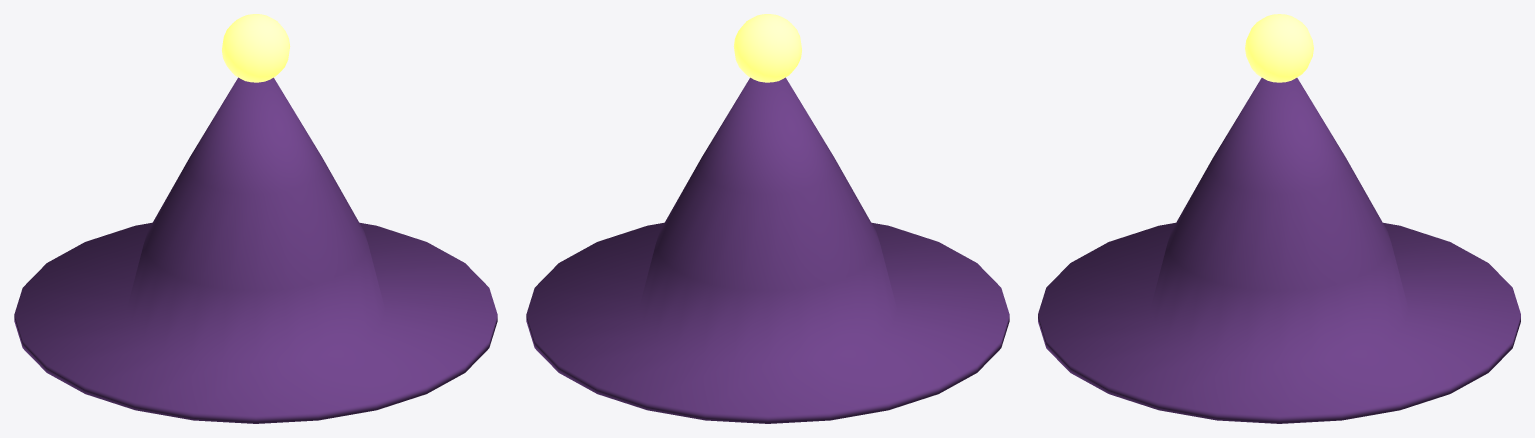
The model's file is hat_wizard.glb.
3 views of the same model, side by side, from view 1: azimuth 30°, elevation 25°; view 2: azimuth 150°, elevation 25°; view 3: azimuth 270°, elevation 25° (orthographic).
Visible parts, largest first — view 1: HatWizard; view 2: HatWizard; view 3: HatWizard.
Part boxes in pixels (box(x1,y1,x2,y2)): HatWizard: box(14, 14, 497, 423); HatWizard: box(526, 14, 1009, 423); HatWizard: box(1038, 14, 1520, 423).
Size of the model in its own units: 0.56 by 0.39 by 0.56.
